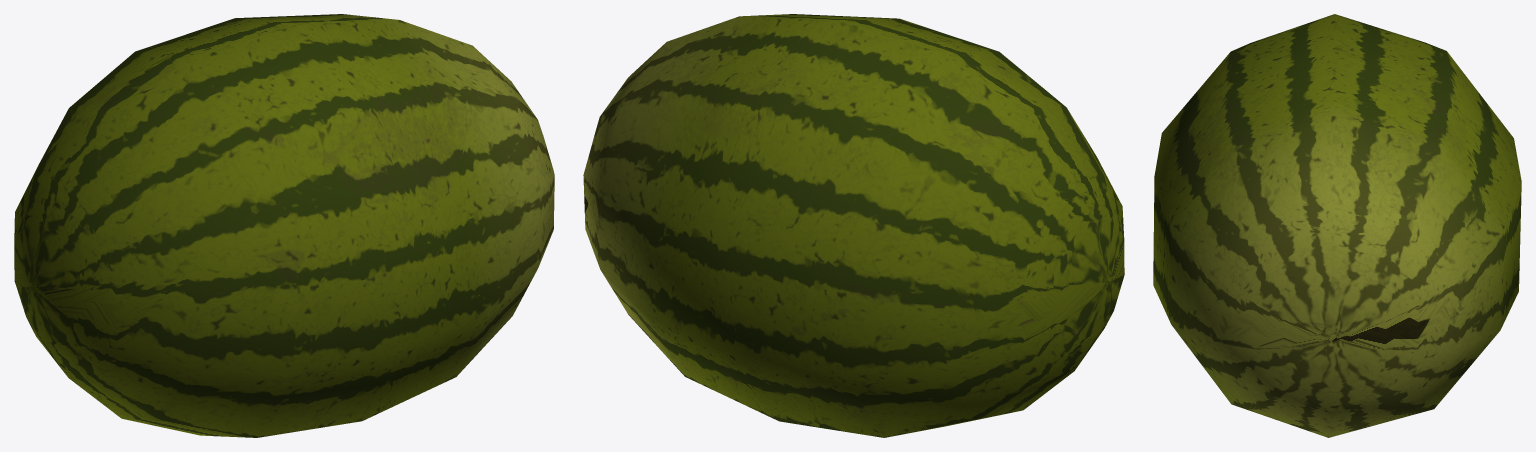
File: Water melon.fbx
The picture shows the model from 3 angles, left to right: view 1: azimuth 30°, elevation 25°; view 2: azimuth 150°, elevation 25°; view 3: azimuth 270°, elevation 25°; orthographic projection. The views are drawn at different scales.
Parts seen in each view (by area): view 1: Watermelon; view 2: Watermelon; view 3: Watermelon.
Boxes of the visible parts, x1=… form: Watermelon: x1=14, y1=14, x2=554, y2=437; Watermelon: x1=583, y1=14, x2=1124, y2=437; Watermelon: x1=1153, y1=14, x2=1521, y2=437.
Size of the model in its own units: 25.53 by 19.07 by 17.85.
1 material, 1 textured.
